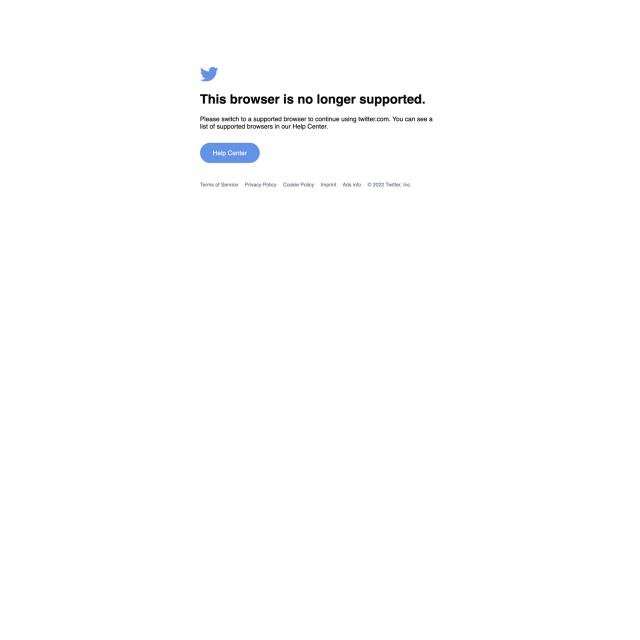CheckBox: (200, 142, 260, 164)
Input field: (199, 112, 435, 135)
badge: (197, 179, 438, 201)
carousel: (198, 62, 221, 84)
data feed: (212, 148, 249, 158)
image: (199, 91, 427, 108)
